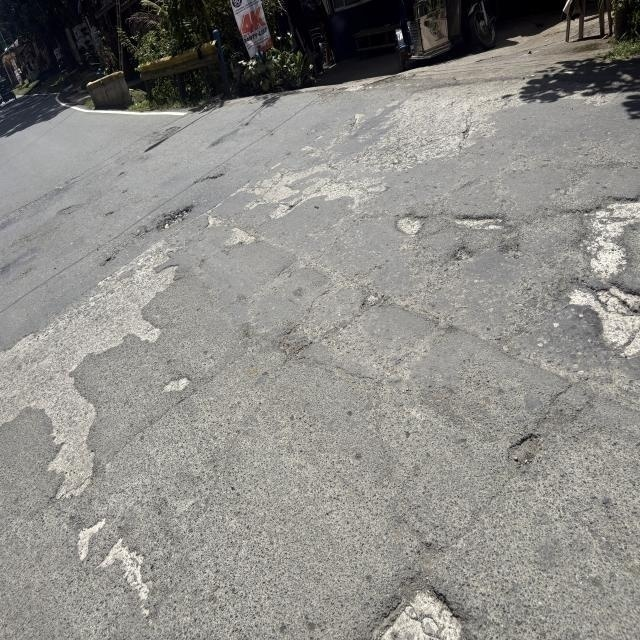pothole: (0, 210, 194, 512), (553, 170, 640, 410), (334, 550, 495, 640), (68, 511, 180, 625), (442, 172, 527, 289), (195, 199, 258, 272), (156, 365, 215, 405), (388, 204, 426, 243)
